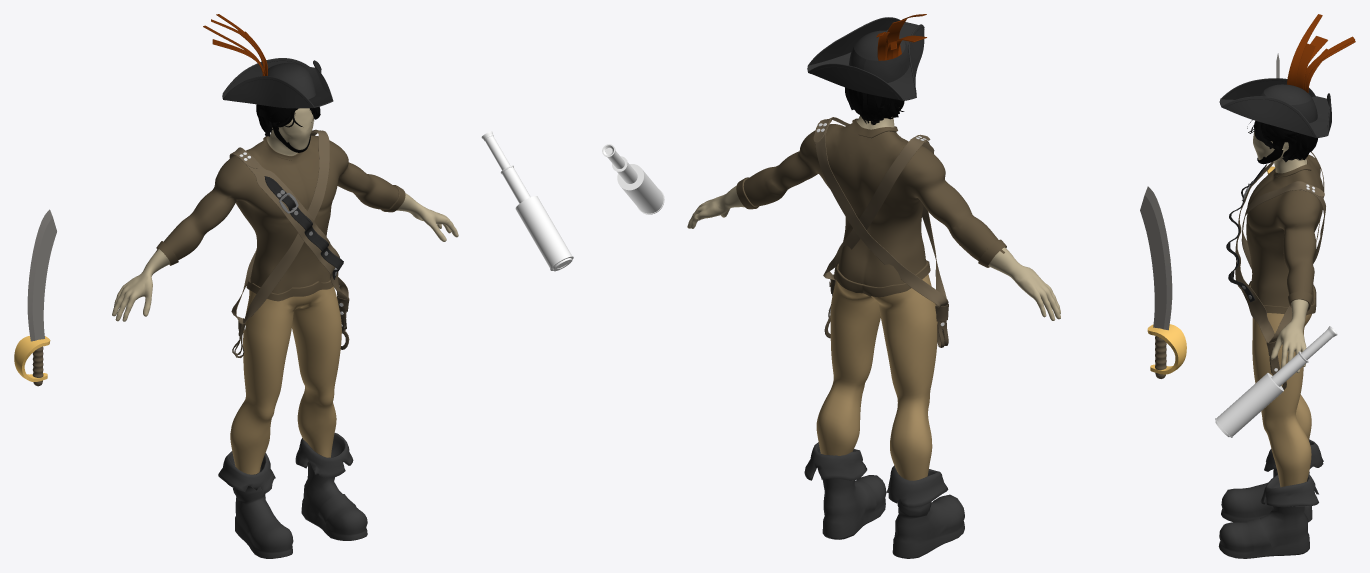
File: zaid.glb
The picture shows the model from 3 angles, left to right: view 1: azimuth 30°, elevation 25°; view 2: azimuth 150°, elevation 25°; view 3: azimuth 270°, elevation 25°; orthographic projection. The views are drawn at different scales.
Parts seen in each view (by area): view 1: cube, acc, Short_boot_left, Short_boot_right, sowrd, Spyglass1, hair; view 2: cube, acc, Short_boot_right, Short_boot_left, sowrd, Spyglass1, hair; view 3: cube, acc, Short_boot_left, Spyglass1, Short_boot_right, hair.
Boxes of the visible parts, x1,y1,x2,y2 form: cube: (112,108,458,474); acc: (203,14,349,357); Short_boot_left: (295,433,367,540); Short_boot_right: (218,451,293,558); sowrd: (14,209,56,386); Spyglass1: (481,131,573,271); hair: (256,104,320,136); cube: (687,100,1060,480); acc: (807,14,948,347); Short_boot_right: (886,465,964,558); Short_boot_left: (804,442,886,539); sowrd: (1140,186,1186,378); Spyglass1: (602,144,664,214); hair: (845,87,904,124); cube: (1246,131,1323,487); acc: (1219,14,1355,389); Short_boot_left: (1218,474,1318,558); Spyglass1: (1215,326,1337,437); Short_boot_right: (1221,439,1323,522); hair: (1247,120,1317,162).
Bounding box in the file's own units: 9.45 × 8.73 × 2.25.
